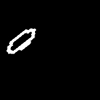chain: (7, 29, 35, 53)
